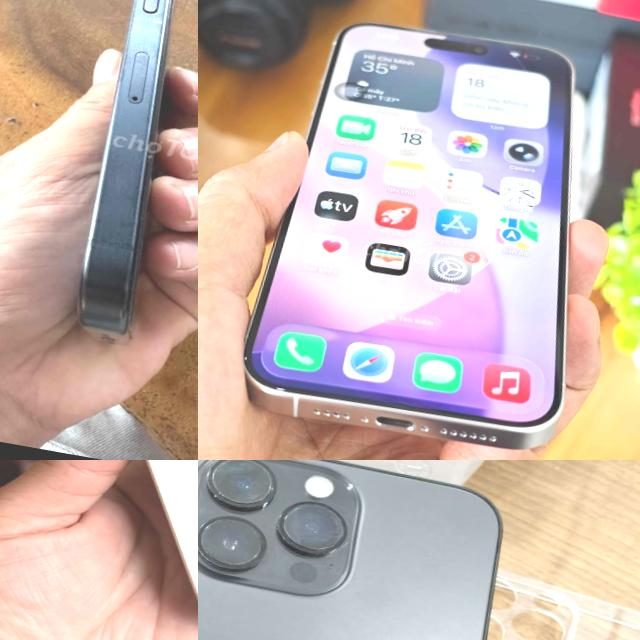scratch: (198, 505, 279, 576), (91, 156, 151, 238), (198, 460, 278, 512), (321, 509, 365, 568), (126, 4, 185, 46)
